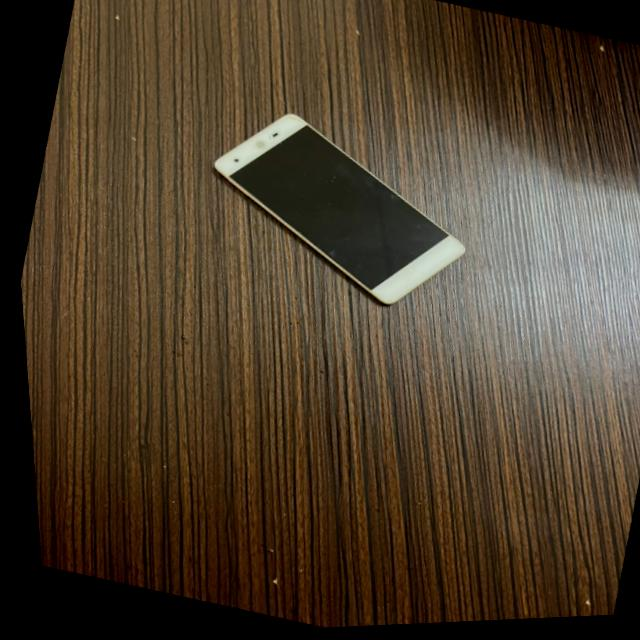Smartphone: (193, 99, 483, 332)
